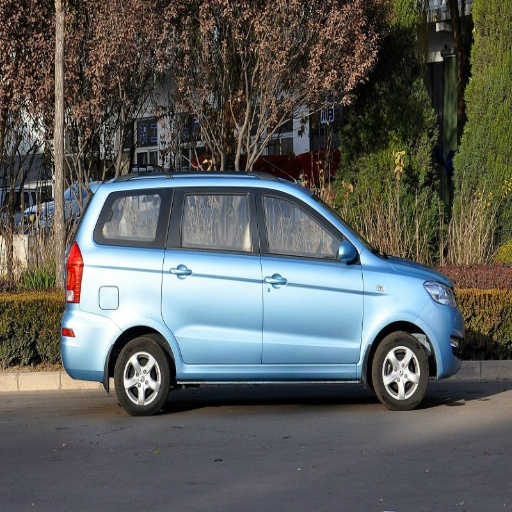back_right_door: (143, 185, 261, 366)
front_right_door: (259, 186, 364, 368)
trunk: (73, 250, 155, 364)
